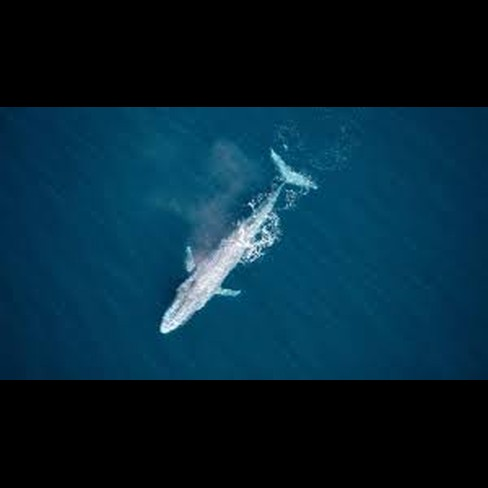bluewhale: (155, 144, 321, 339)
